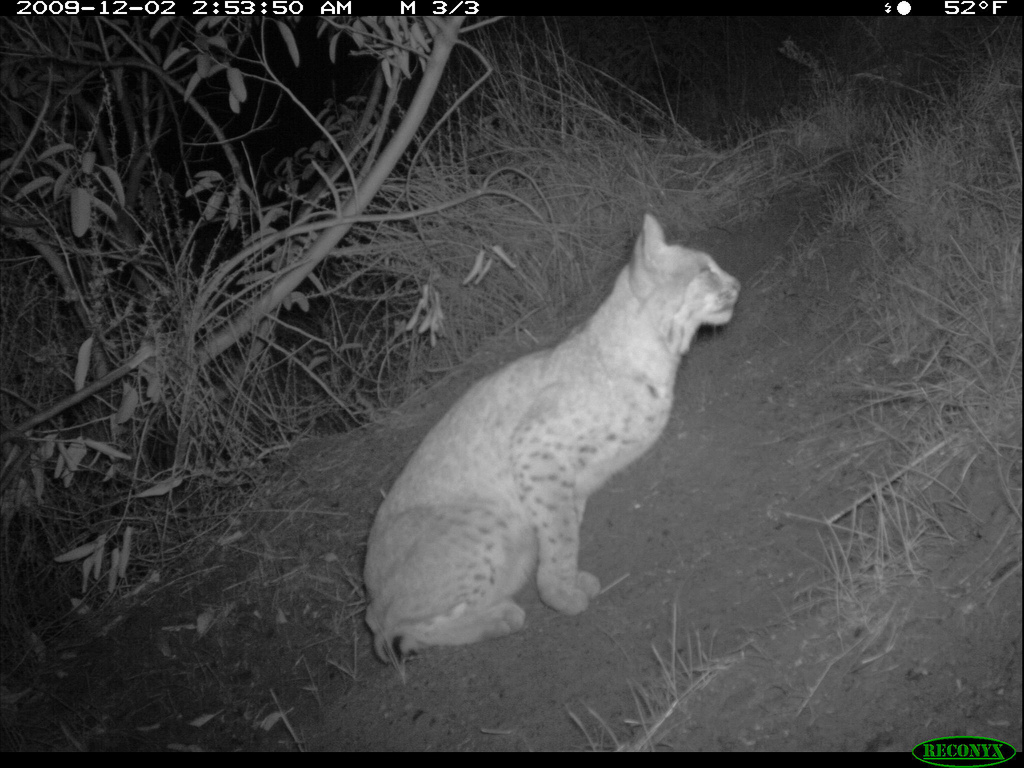bobcat: (355, 193, 759, 693)
